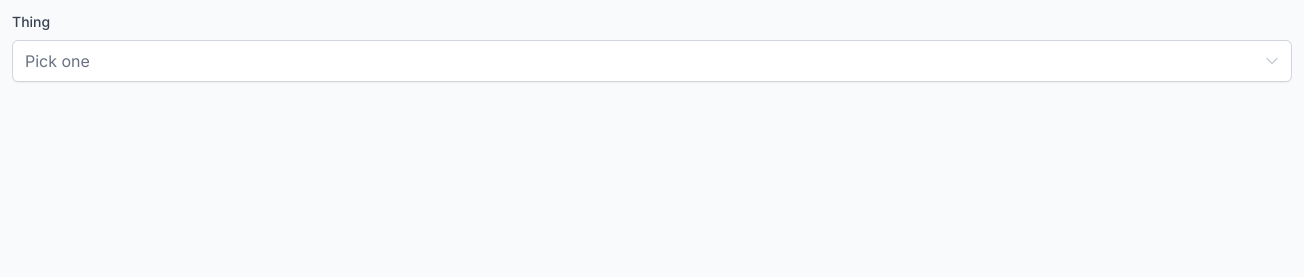
Scenario: SearchableDropdown › loads the first page when opened and lists the options
Click the button "Pick one".
click(57, 61)  # box [12, 40, 1292, 82]
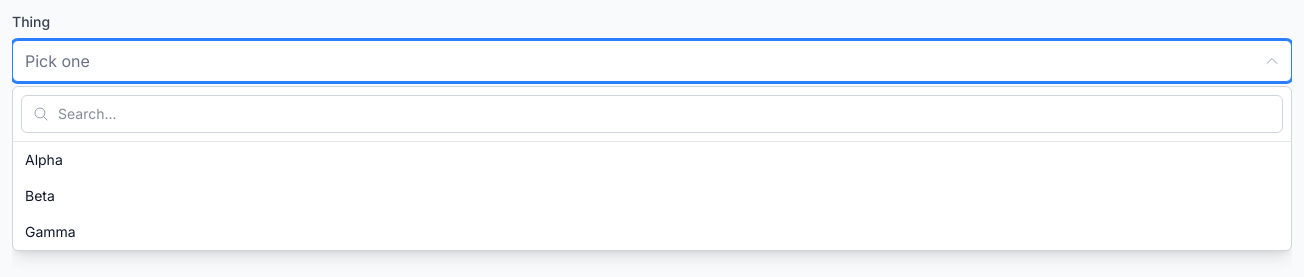
Result: the button "Beta" is shown at [13, 178, 1291, 214]
